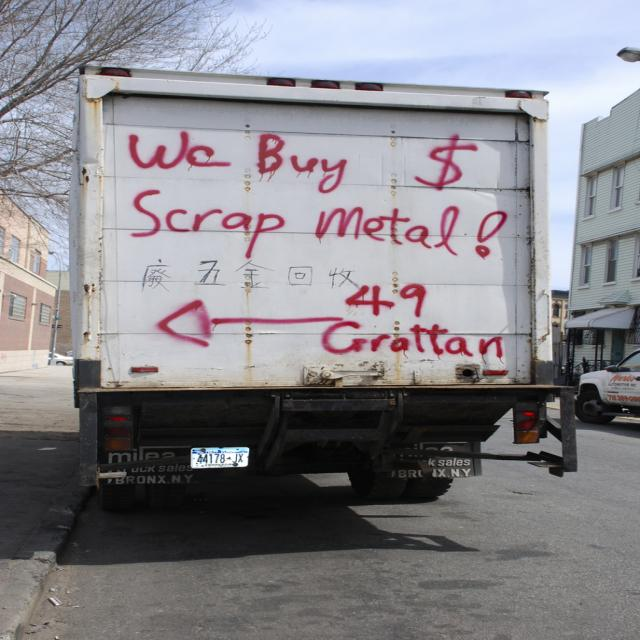other: (572, 349, 638, 428), (46, 350, 73, 365)
